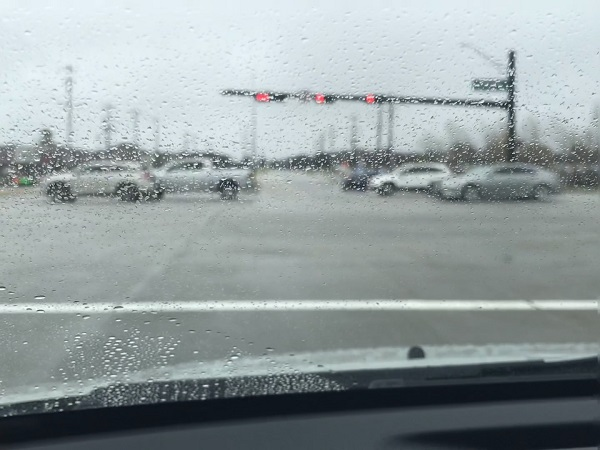car: (438, 164, 563, 204), (41, 162, 159, 200), (368, 159, 448, 194), (338, 169, 368, 191)
traffic light: (253, 89, 268, 105), (361, 92, 378, 106), (311, 93, 324, 104)
truck: (153, 158, 254, 198)
